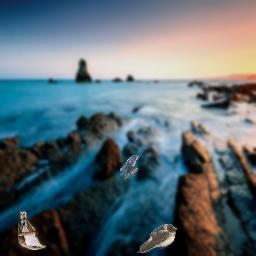Cuckoo: (18, 210, 46, 250)
Swallow: (137, 224, 177, 253), (120, 155, 139, 179)
